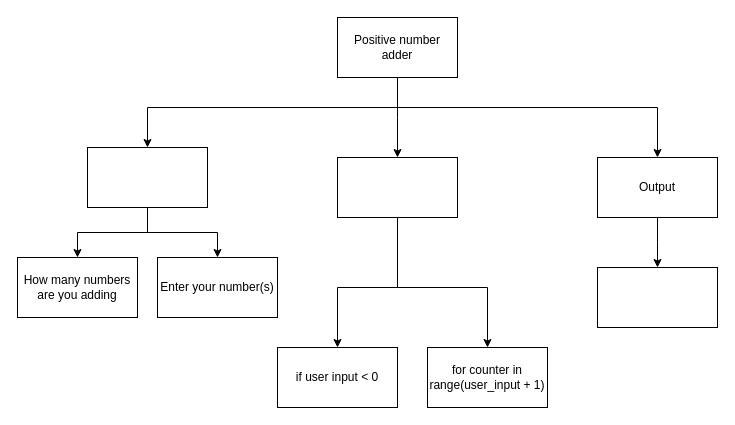
The diagram is 735 pixels wide and 425 high, and some of its shapes have lost their labels. Here are the shapes that lost their labels. From the top down, the box of each, then its label:
(86, 146, 208, 208): Input
(336, 156, 458, 218): Process
(596, 266, 718, 328): Show answer accordingly
